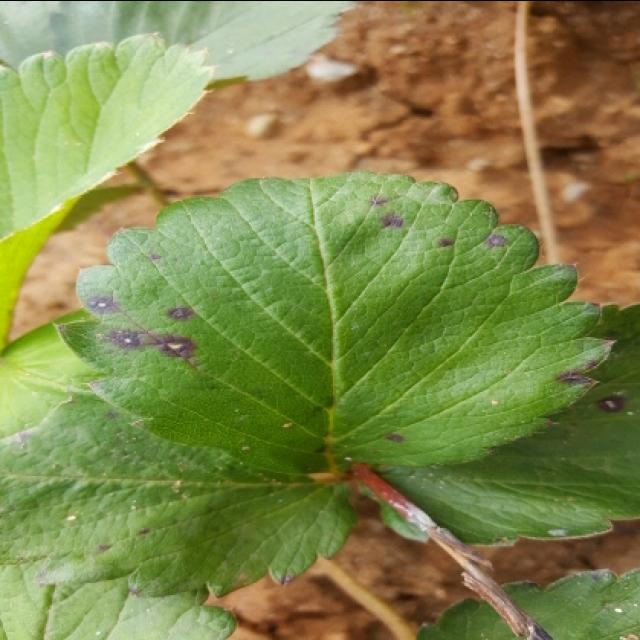Leaf Spot: (53, 168, 612, 477), (0, 382, 357, 599), (353, 299, 638, 548)
